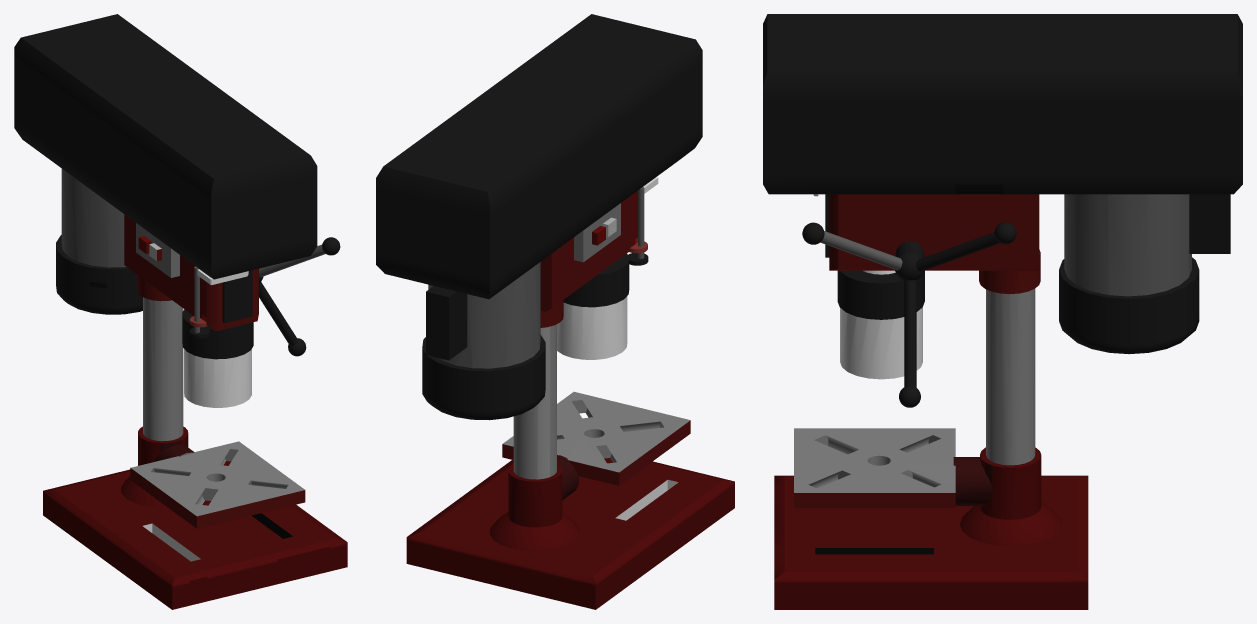
3 views of the same model, side by side, from view 1: azimuth 30°, elevation 25°; view 2: azimuth 150°, elevation 25°; view 3: azimuth 270°, elevation 25° (orthographic). The views are drawn at different scales.
Visible parts, largest first — view 1: main, spin, hand; view 2: main, spin; view 3: main, spin, hand.
Part boxes in pixels (box(x1,y1,x2,y2)): main: box(14, 14, 347, 609); spin: box(182, 266, 253, 407); hand: box(259, 237, 340, 356); main: box(376, 14, 734, 609); spin: box(557, 177, 658, 359); main: box(763, 14, 1242, 609); spin: box(813, 194, 924, 379); hand: box(802, 222, 1016, 407).
Bounding box in the file's own units: 4.3 × 9.22 × 7.79.
